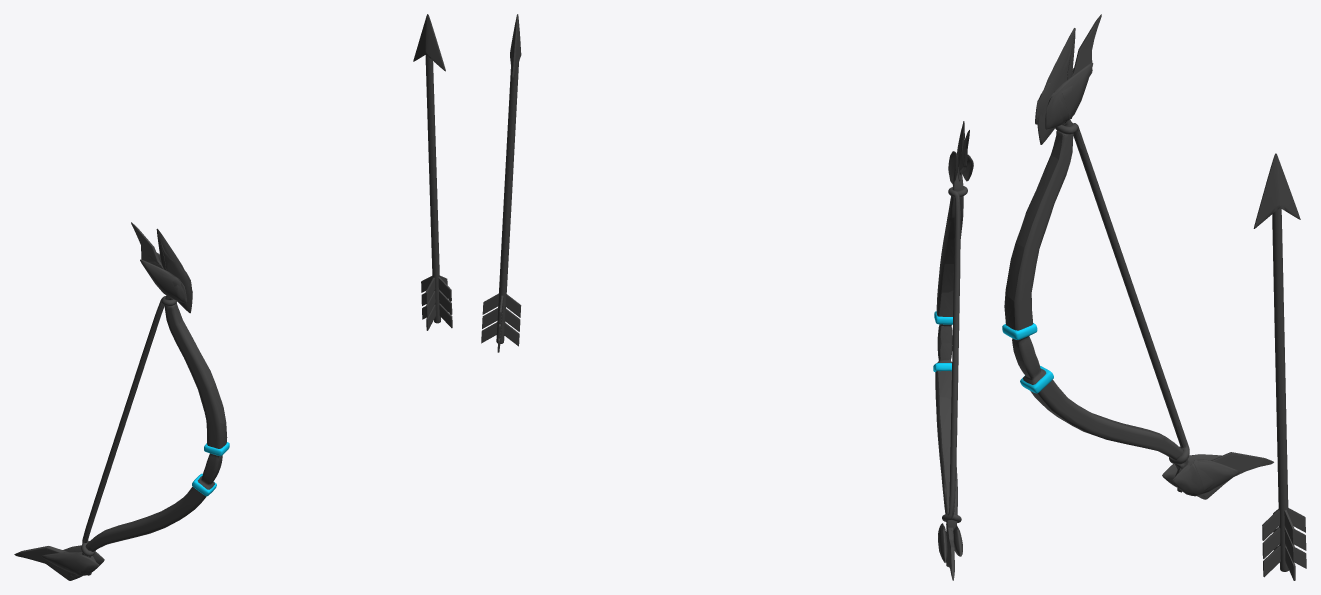
3 renders of one model, left to right at view 1: azimuth 30°, elevation 25°; view 2: azimuth 150°, elevation 25°; view 3: azimuth 270°, elevation 25°, orthographic. The views are drawn at different scales.
Parts seen in each view (by area): view 1: bow, crystals_005, stick, string, tip; view 2: bow, string, stick, crystals_005; view 3: bow, crystals_005, stick, string, tip, feather_1, feather_2, feather_3.
Boxes of the visible parts, left/top/right/bottom form: bow: left=82, top=295, right=227, bottom=575; crystals_005: left=14, top=222, right=192, bottom=580; stick: left=425, top=55, right=440, bottom=323; string: left=81, top=296, right=176, bottom=556; tip: left=413, top=14, right=445, bottom=71; bow: left=935, top=173, right=963, bottom=530; string: left=942, top=186, right=967, bottom=522; stick: left=496, top=63, right=518, bottom=343; crystals_005: left=938, top=121, right=973, bottom=580; bow: left=1004, top=119, right=1188, bottom=492; crystals_005: left=1035, top=14, right=1273, bottom=499; stick: left=1272, top=208, right=1288, bottom=571; string: left=1055, top=122, right=1189, bottom=464; tip: left=1253, top=153, right=1300, bottom=228; feather_1: left=1262, top=508, right=1305, bottom=540; feather_2: left=1262, top=527, right=1306, bottom=558; feather_3: left=1263, top=545, right=1306, bottom=577.
Size of the model in its own units: 140 by 64.19 by 137.
